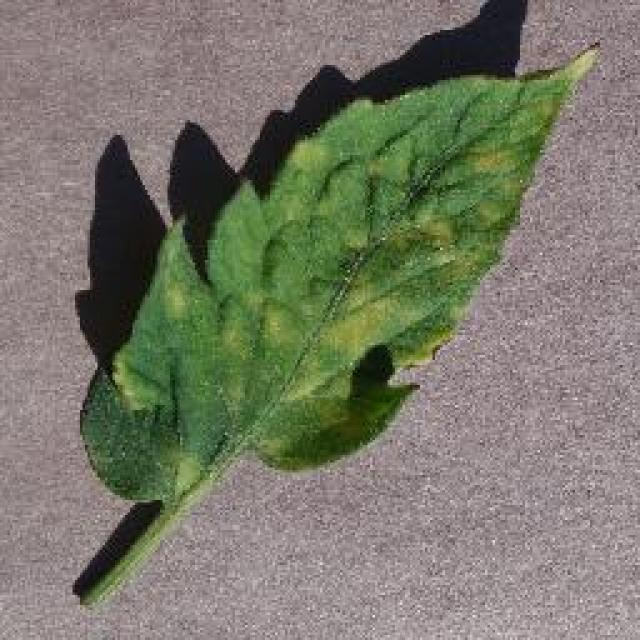Tomato___Leaf_Mold: (80, 41, 597, 609)
